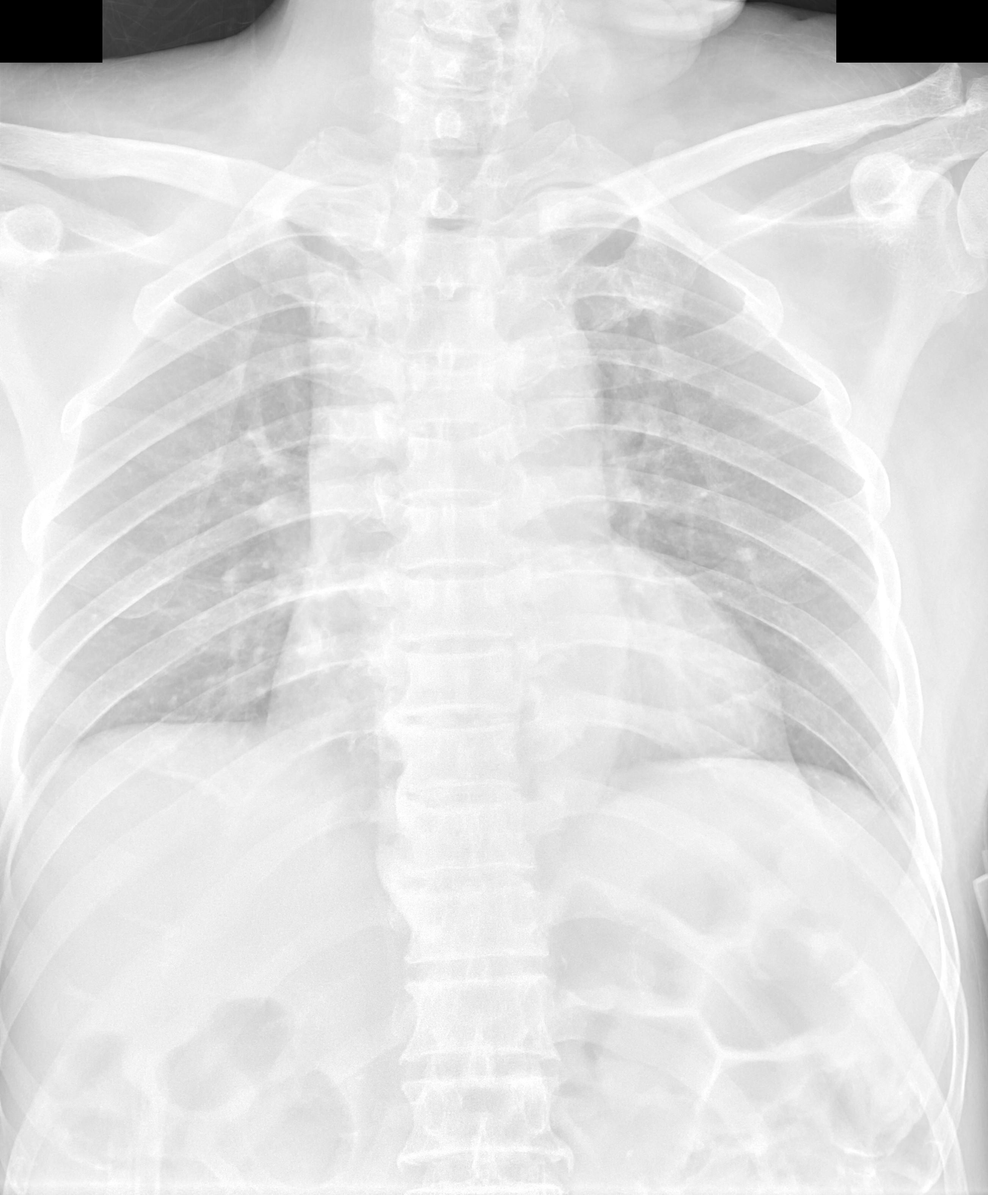Aortic enlargement: (452, 282, 598, 418)
Cardiomegaly: (254, 657, 792, 760)
